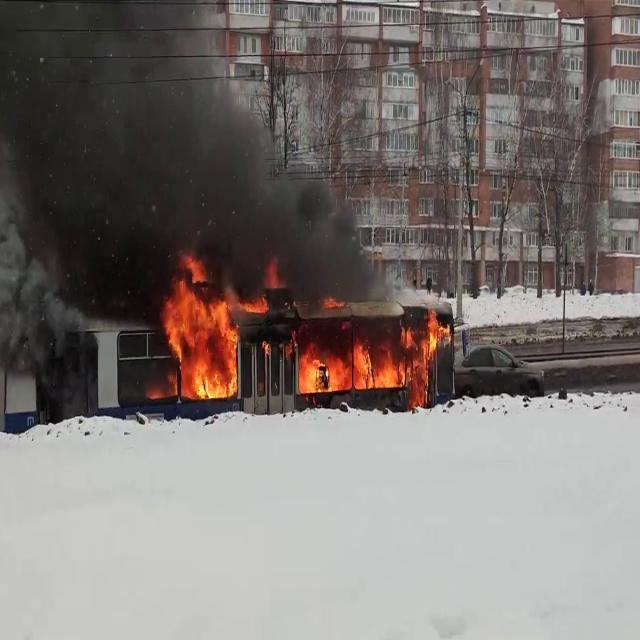Fire: (154, 256, 256, 398), (293, 309, 452, 398)
Smoke: (0, 10, 386, 306)
